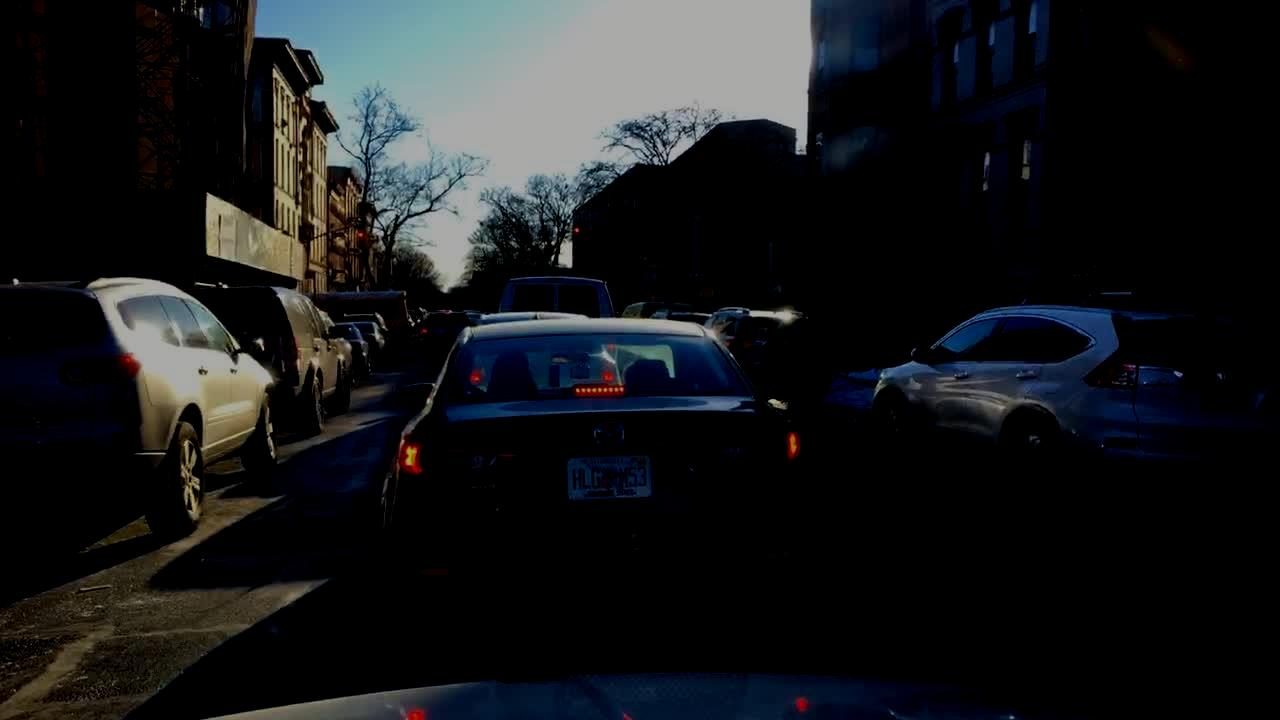Honda: (1218, 365, 1246, 393)
Mazda: (590, 413, 634, 455)
